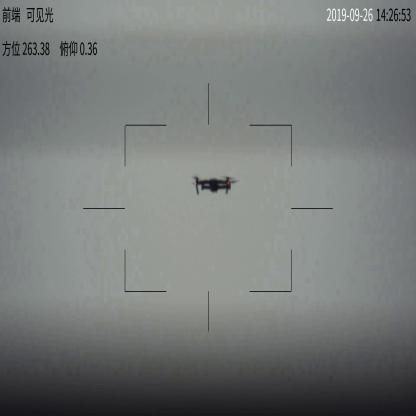uav: (188, 173, 239, 198)
